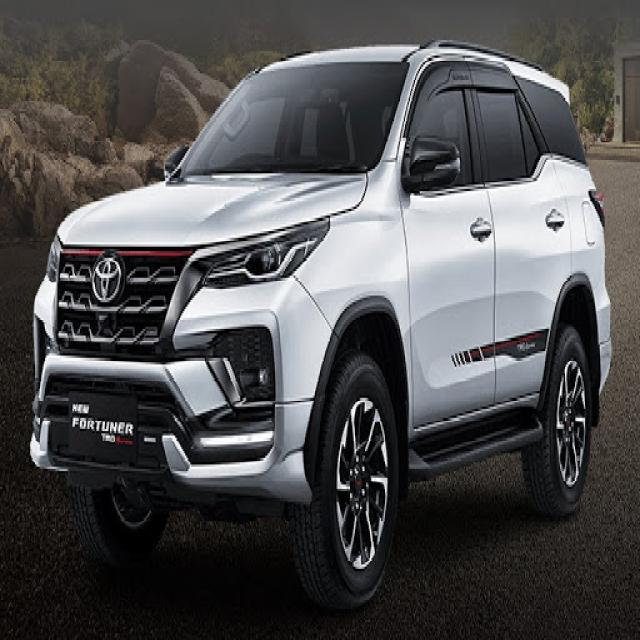light_vehicle: (29, 39, 613, 612)
